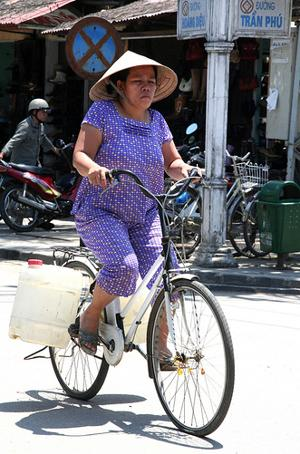person: (73, 52, 200, 380)
